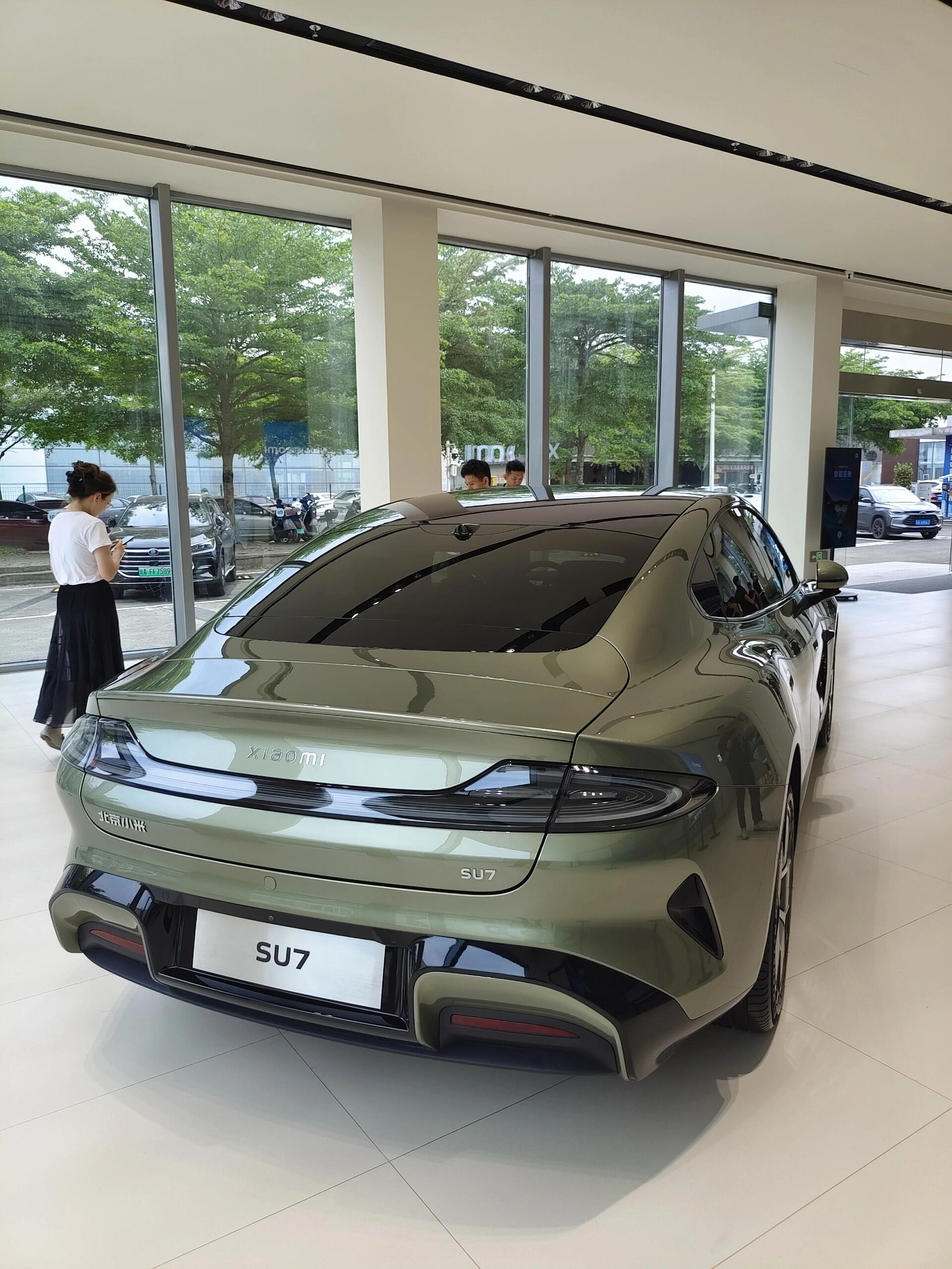other: (101, 500, 247, 588), (851, 468, 952, 545)
su7: (56, 495, 833, 1086)
